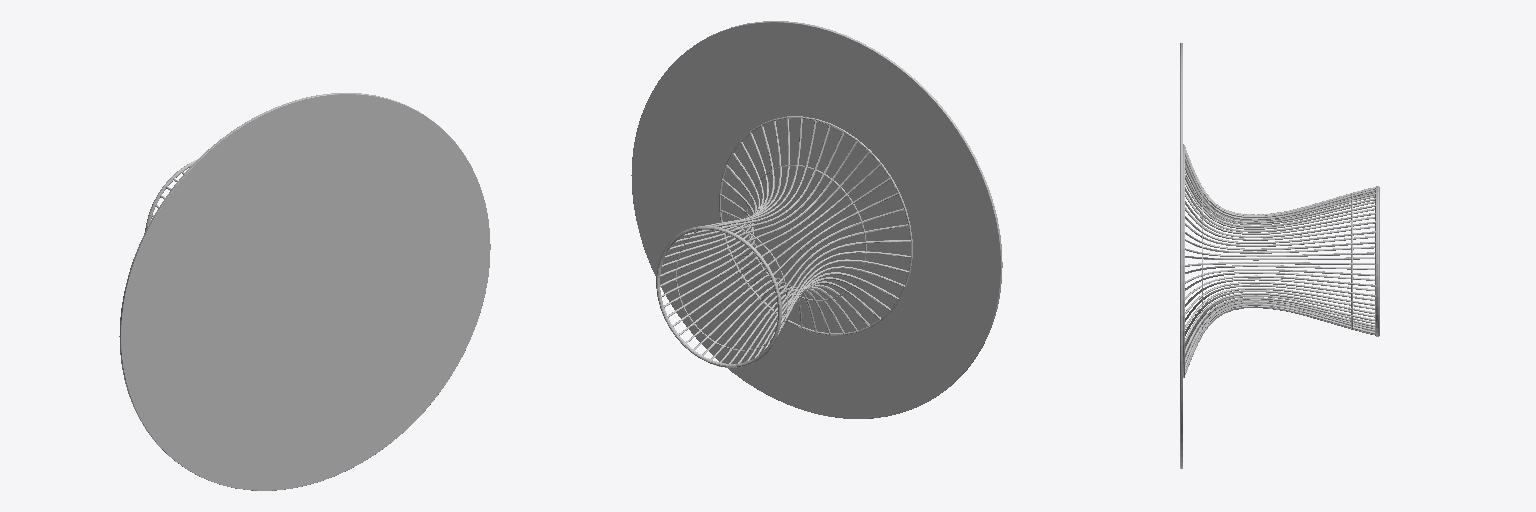
The model's file is table.obj.
3 renders of one model, left to right at view 1: azimuth 30°, elevation 25°; view 2: azimuth 150°, elevation 25°; view 3: azimuth 270°, elevation 25°, orthographic.
Visible parts, largest first — view 1: ChamferCyl01; view 2: ChamferCyl01, Shape03, object__5, Shape04; view 3: Shape03, ChamferCyl01, object__5.
Part boxes in pixels (bbox=[...]): ChamferCyl01: bbox=[119, 93, 490, 490]; ChamferCyl01: bbox=[631, 21, 1002, 418]; Shape03: bbox=[660, 118, 910, 363]; object__5: bbox=[656, 226, 781, 367]; Shape04: bbox=[719, 116, 912, 335]; Shape03: bbox=[1185, 147, 1375, 374]; ChamferCyl01: bbox=[1180, 43, 1182, 468]; object__5: bbox=[1375, 186, 1379, 336].
Size of the model in its own units: 64.34 by 64.34 by 30.02.